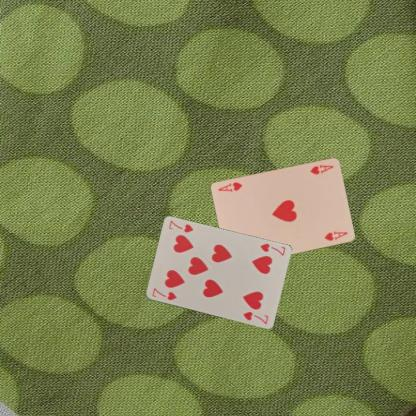7h: (257, 241, 287, 257), (149, 286, 178, 302)
Ah: (308, 162, 335, 176)
